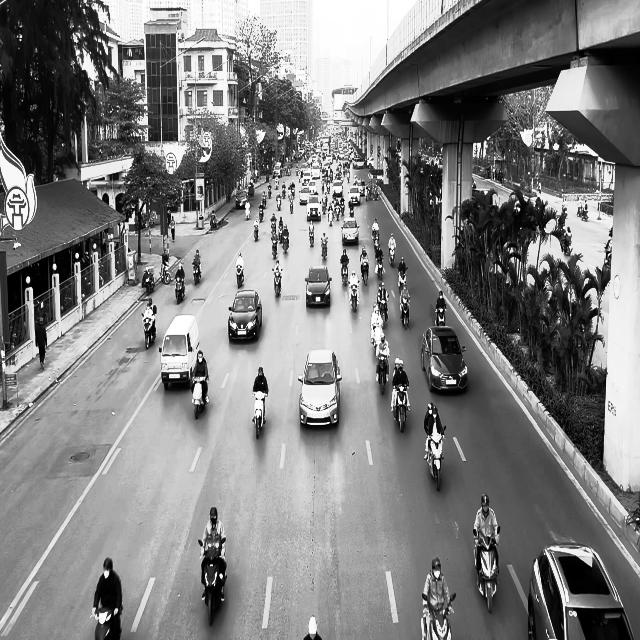car: (527, 541, 635, 639), (298, 348, 342, 428), (420, 325, 468, 393), (159, 314, 199, 390), (228, 289, 262, 342), (304, 265, 332, 307), (340, 217, 360, 245), (235, 189, 248, 209)
motorbike: (198, 537, 227, 626), (473, 526, 500, 612), (420, 592, 456, 639), (425, 425, 446, 491), (91, 604, 123, 640), (391, 383, 409, 432), (191, 376, 209, 419), (252, 390, 267, 438), (142, 307, 156, 349), (376, 355, 389, 395), (399, 296, 410, 330), (377, 294, 389, 322), (142, 267, 154, 294), (349, 281, 359, 312), (272, 267, 282, 297), (175, 276, 185, 304), (160, 259, 170, 284), (192, 261, 202, 285), (340, 259, 349, 285), (360, 259, 369, 285), (435, 305, 446, 326), (236, 265, 244, 288), (271, 233, 278, 259), (320, 240, 328, 260), (309, 222, 314, 246), (210, 213, 217, 230), (254, 222, 259, 241), (245, 202, 250, 220)
